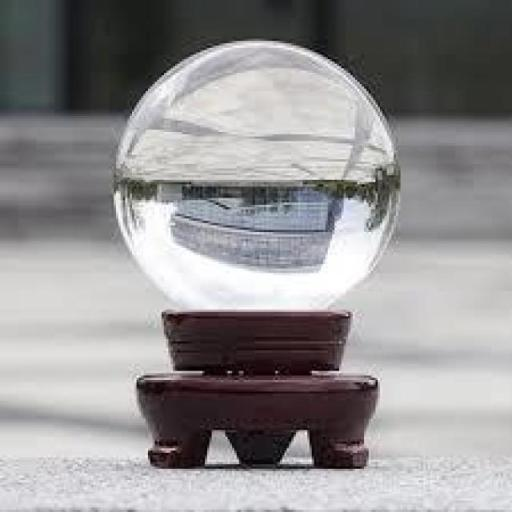glass: (112, 40, 402, 312)
